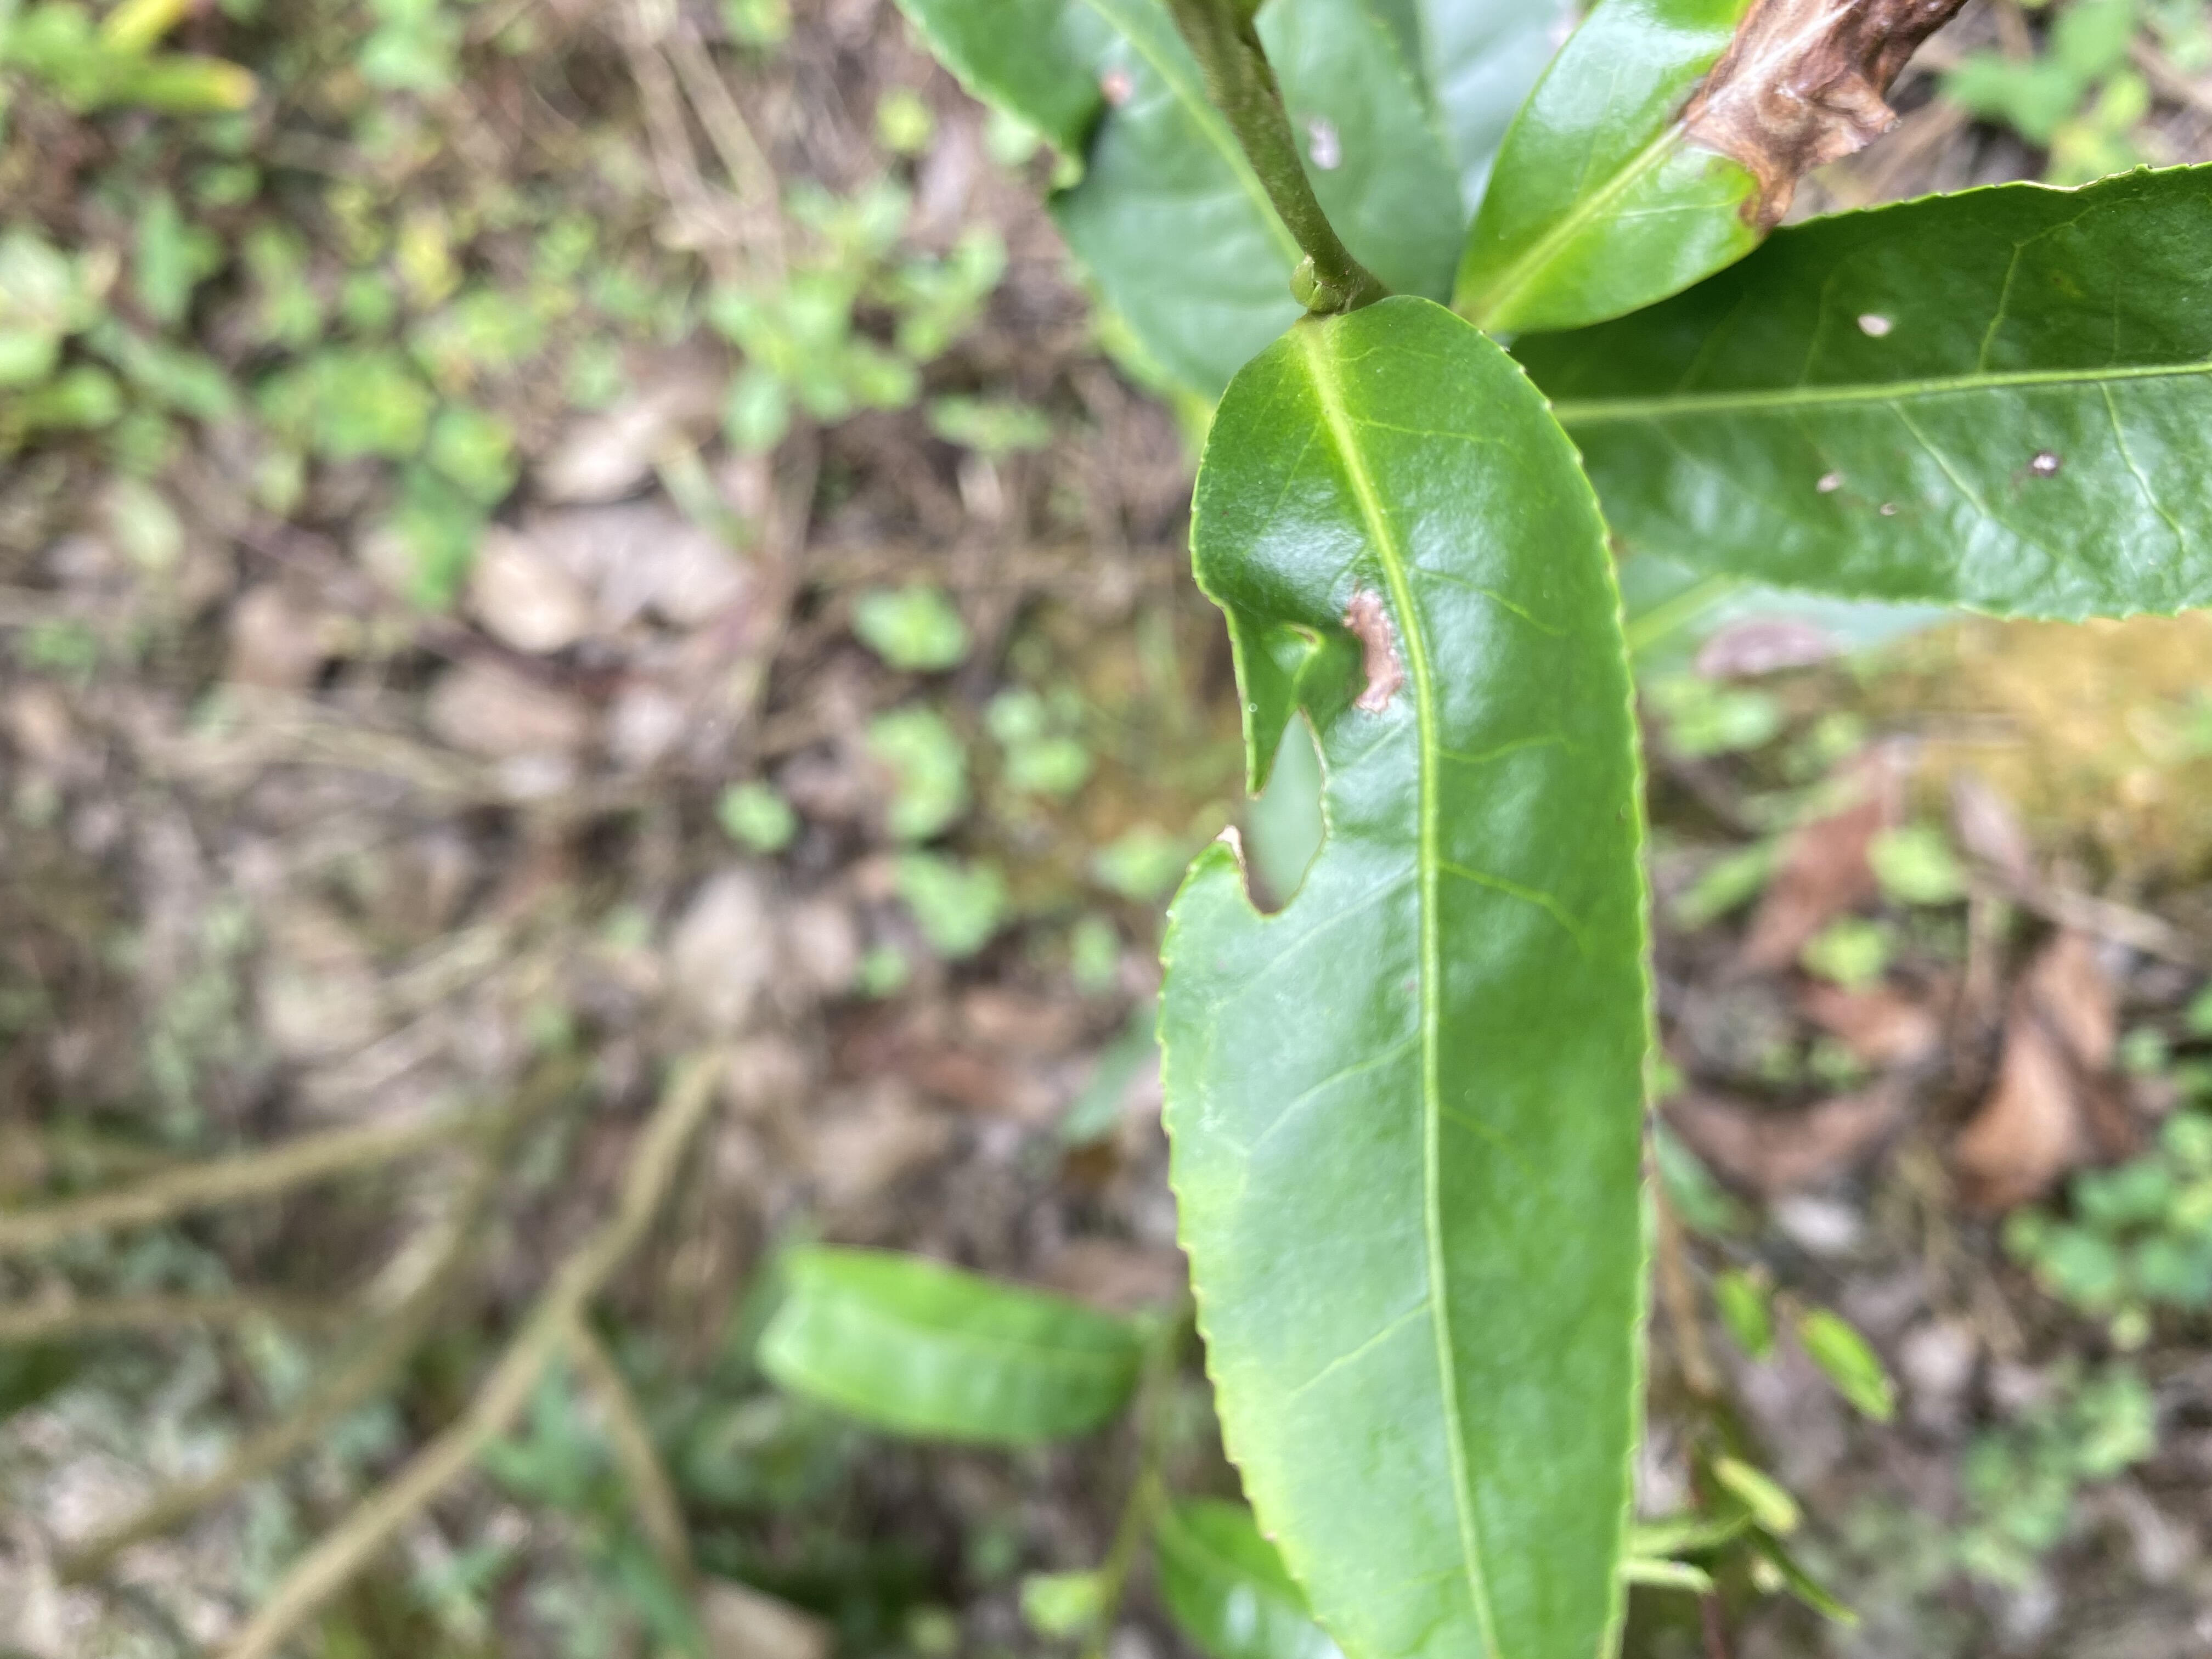tanju_high: (1454, 2, 1975, 335)
